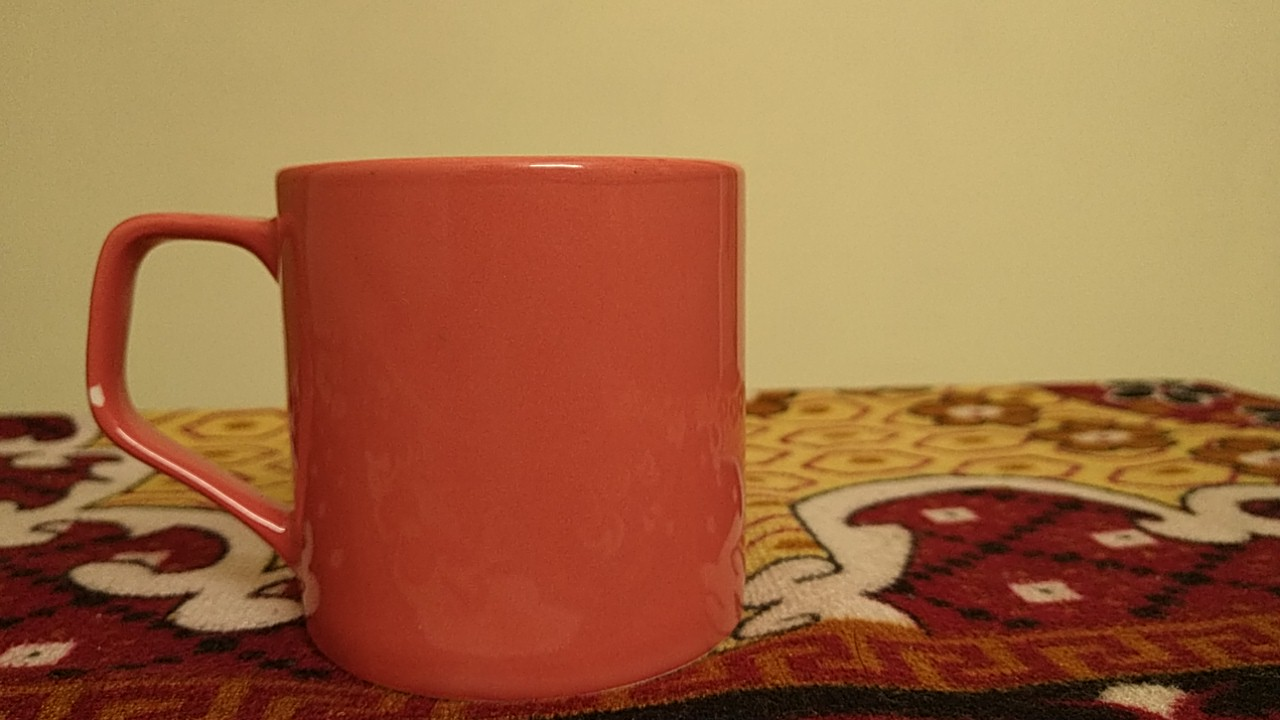cup: (77, 147, 764, 709)
